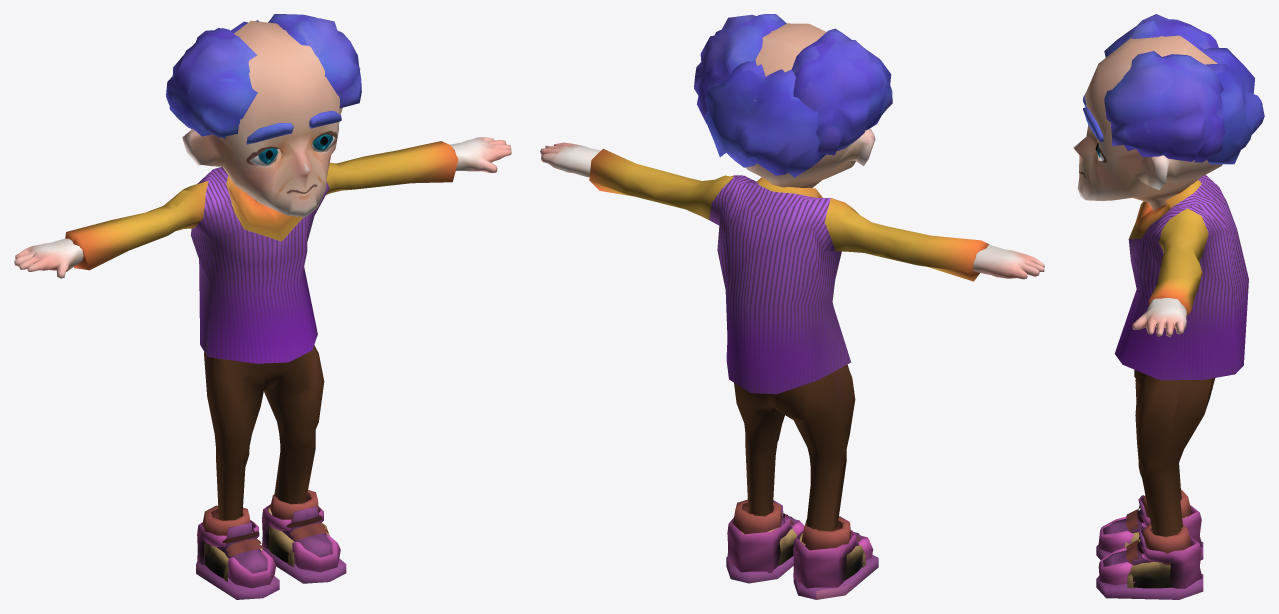
Rendered from prof3_cha.fbx.
The picture shows the model from 3 angles, left to right: view 1: azimuth 30°, elevation 25°; view 2: azimuth 150°, elevation 25°; view 3: azimuth 270°, elevation 25°; orthographic projection. The views are drawn at different scales.
Parts seen in each view (by area): view 1: Cube.003; view 2: Cube.003; view 3: Cube.003.
Boxes of the visible parts, <box> form: Cube.003: <box>14,14,511,599</box>; Cube.003: <box>540,14,1044,599</box>; Cube.003: <box>1073,14,1264,599</box>.
Size of the model in its own units: 220 by 231 by 74.8.
